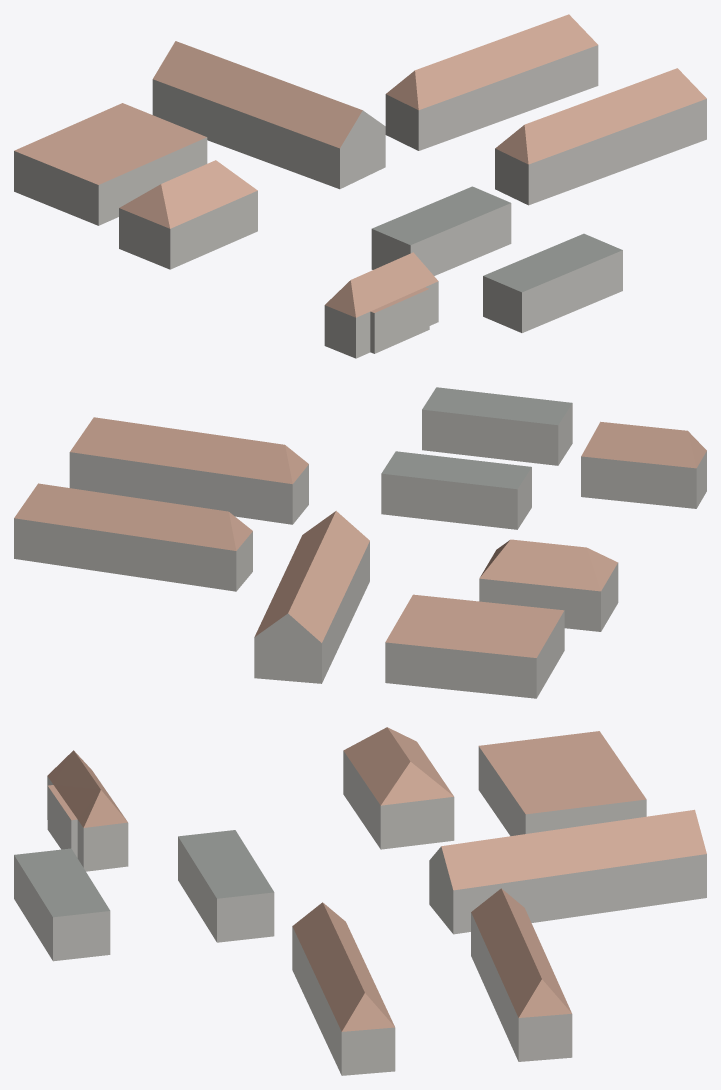
Rendered from gridID_41.dae.
The picture shows the model from 3 angles, top to bottom: view 1: azimuth 30°, elevation 25°; view 2: azimuth 150°, elevation 25°; view 3: azimuth 270°, elevation 25°; orthographic projection. The views are drawn at different scales.
Parts seen in each view (by area): view 1: model_gridID_41_w376378563, model_gridID_41_w376378578, model_gridID_41_w376378564_001, model_gridID_41_w376378569, model_gridID_41_w376378547, model_gridID_41_w376378589, model_gridID_41_w376378549, model_gridID_41_w376378601_001, model_gridID_41_w376378593_002; view 2: model_gridID_41_w376378563, model_gridID_41_w376378578, model_gridID_41_w376378564_001, model_gridID_41_w376378549, model_gridID_41_w376378593_002, model_gridID_41_w376378601_001, model_gridID_41_w376378569, model_gridID_41_w376378589, model_gridID_41_w376378547; view 3: model_gridID_41_w376378564_001, model_gridID_41_w376378589, model_gridID_41_w376378578, model_gridID_41_w376378563, model_gridID_41_w376378569, model_gridID_41_w376378547, model_gridID_41_w376378549, model_gridID_41_w376378593_002, model_gridID_41_w376378601_001.
Boxes of the visible parts, x1=… form: model_gridID_41_w376378563: x1=385, y1=14, x2=598, y2=150; model_gridID_41_w376378578: x1=495, y1=68, x2=706, y2=205; model_gridID_41_w376378564_001: x1=14, y1=103, x2=207, y2=225; model_gridID_41_w376378569: x1=119, y1=160, x2=257, y2=269; model_gridID_41_w376378547: x1=260, y1=81, x2=385, y2=189; model_gridID_41_w376378589: x1=152, y1=41, x2=282, y2=159; model_gridID_41_w376378549: x1=483, y1=233, x2=622, y2=332; model_gridID_41_w376378601_001: x1=324, y1=252, x2=438, y2=358; model_gridID_41_w376378593_002: x1=371, y1=186, x2=511, y2=275; model_gridID_41_w376378563: x1=14, y1=483, x2=252, y2=591; model_gridID_41_w376378578: x1=69, y1=417, x2=308, y2=524; model_gridID_41_w376378564_001: x1=385, y1=594, x2=564, y2=698; model_gridID_41_w376378549: x1=422, y1=387, x2=572, y2=465; model_gridID_41_w376378593_002: x1=381, y1=451, x2=531, y2=529; model_gridID_41_w376378601_001: x1=581, y1=421, x2=706, y2=508; model_gridID_41_w376378569: x1=479, y1=539, x2=618, y2=631; model_gridID_41_w376378589: x1=254, y1=554, x2=349, y2=683; model_gridID_41_w376378547: x1=282, y1=511, x2=369, y2=623; model_gridID_41_w376378564_001: x1=478, y1=731, x2=646, y2=836; model_gridID_41_w376378589: x1=550, y1=809, x2=706, y2=918; model_gridID_41_w376378578: x1=292, y1=902, x2=395, y2=1075; model_gridID_41_w376378563: x1=471, y1=888, x2=572, y2=1061; model_gridID_41_w376378569: x1=343, y1=727, x2=454, y2=849; model_gridID_41_w376378547: x1=429, y1=830, x2=561, y2=934; model_gridID_41_w376378549: x1=14, y1=848, x2=110, y2=961; model_gridID_41_w376378593_002: x1=178, y1=830, x2=274, y2=942; model_gridID_41_w376378601_001: x1=47, y1=750, x2=128, y2=871.
Bounding box in the file's own units: 110 × 107 × 12.5.
